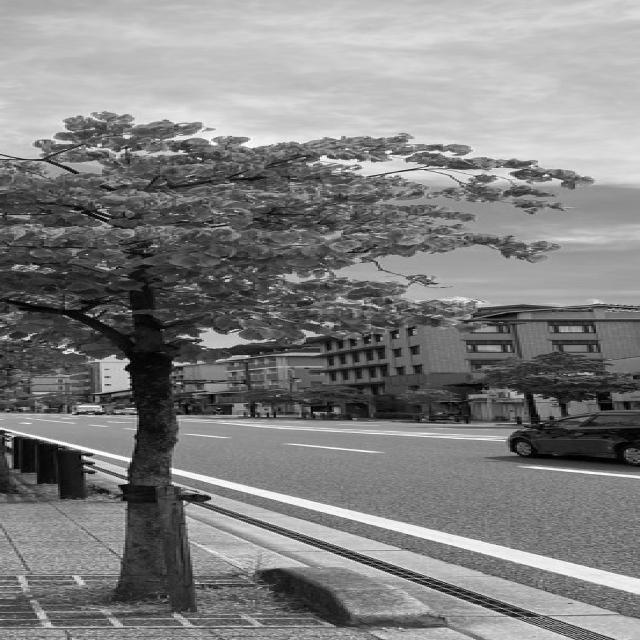dogwood: (0, 109, 598, 604)
